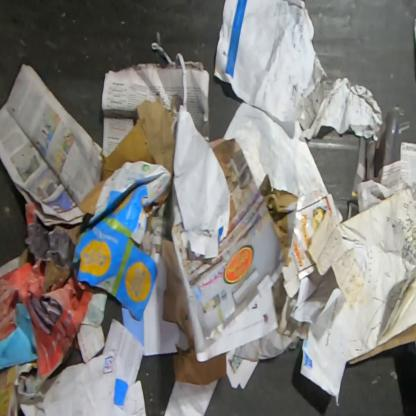cardboard: (55, 93, 175, 321), (170, 137, 284, 354), (258, 172, 299, 267), (348, 323, 415, 366)
soft_plastic: (383, 104, 411, 167)
